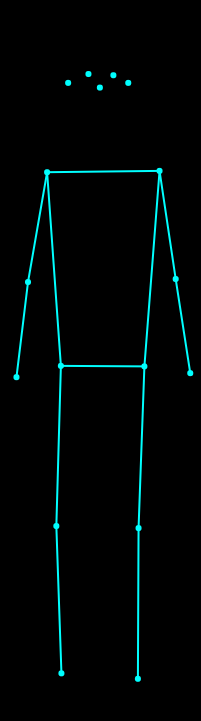mountain: (7, 58, 201, 684)
